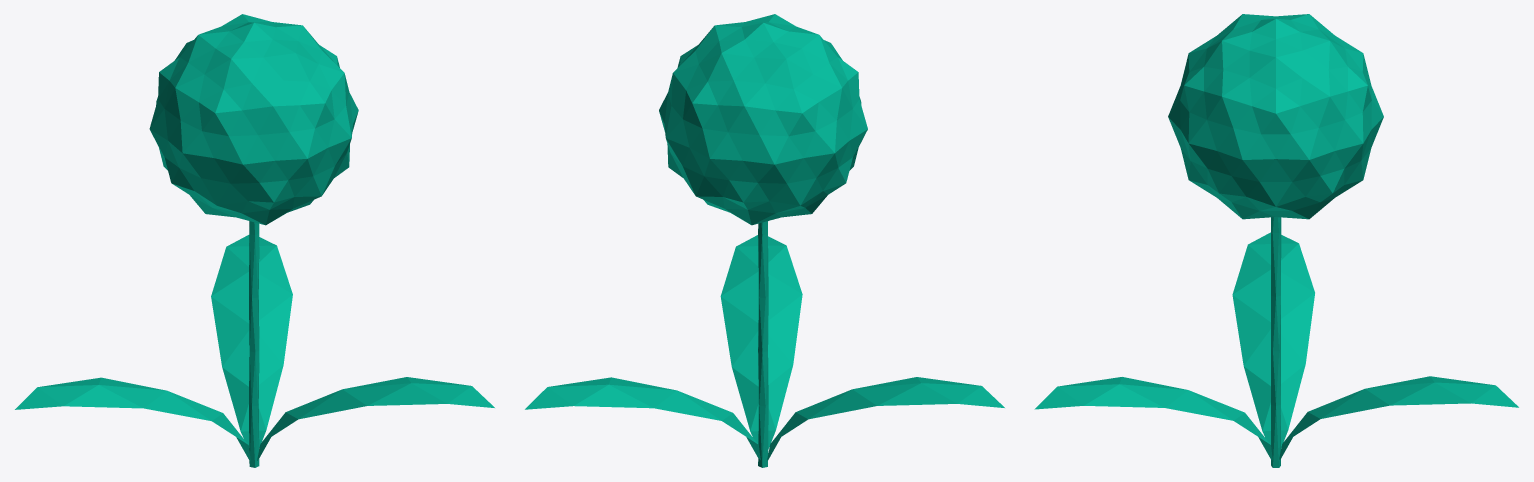
The model's file is Flower_Bomb.fbx.
3 views of the same model, side by side, from view 1: azimuth 30°, elevation 25°; view 2: azimuth 150°, elevation 25°; view 3: azimuth 270°, elevation 25° (orthographic).
Visible parts, largest first — view 1: Mesh_OBJ_BombFlower_UV:polySurface1; view 2: Mesh_OBJ_BombFlower_UV:polySurface1; view 3: Mesh_OBJ_BombFlower_UV:polySurface1.
Boxes of the visible parts, x1,y1,x2,y2 form: Mesh_OBJ_BombFlower_UV:polySurface1: (15, 14, 494, 467); Mesh_OBJ_BombFlower_UV:polySurface1: (525, 14, 1004, 467); Mesh_OBJ_BombFlower_UV:polySurface1: (1034, 14, 1518, 467).
Bounding box in the file's own units: 4.22 × 4.92 × 4.84.
